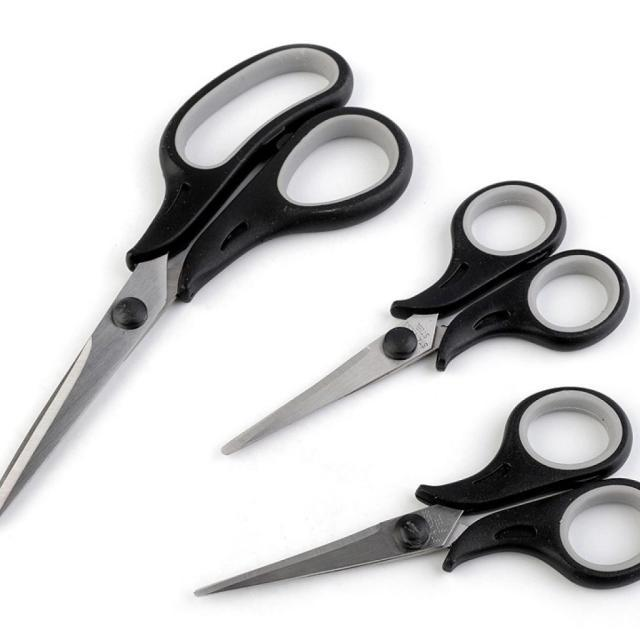tesoura: (0, 31, 420, 541), (189, 156, 640, 483), (173, 379, 640, 615)
